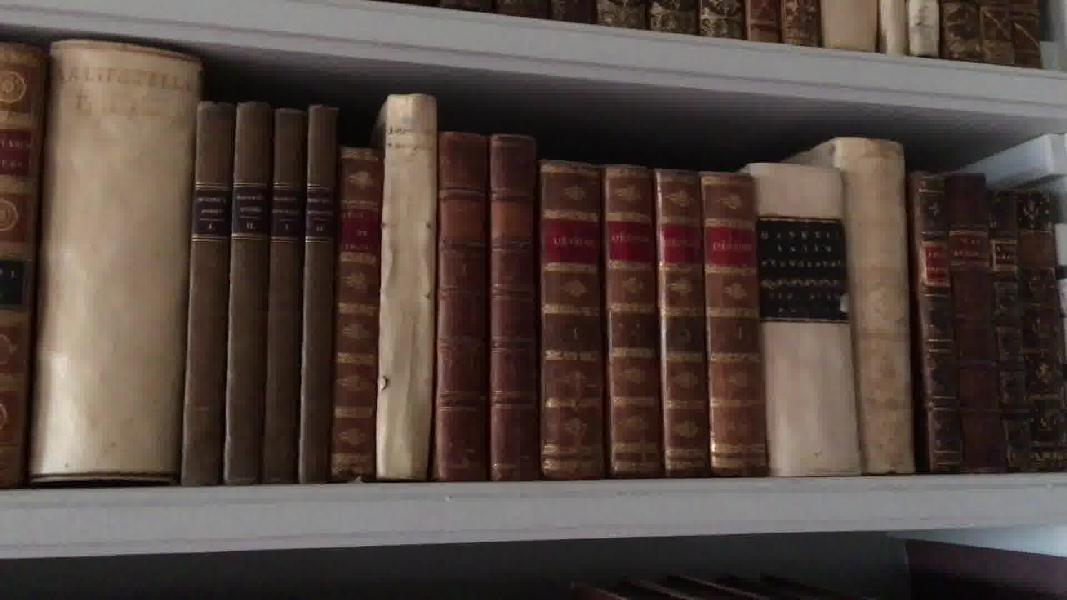Kk4-14: (48, 25, 169, 491)
Kk4-15_16: (185, 88, 266, 497)
Kk4-17_18: (273, 97, 338, 494)
Kk4-19: (338, 131, 385, 488)
Kk4-20: (379, 84, 429, 494)
Kk4-21_22: (435, 125, 544, 494)
Kk4-23_26: (548, 147, 754, 484)
Kk4-27: (748, 147, 866, 481)
Kk4-28: (857, 147, 913, 488)
Kk4-29: (916, 163, 960, 472)
Kk4-30: (960, 163, 994, 478)
